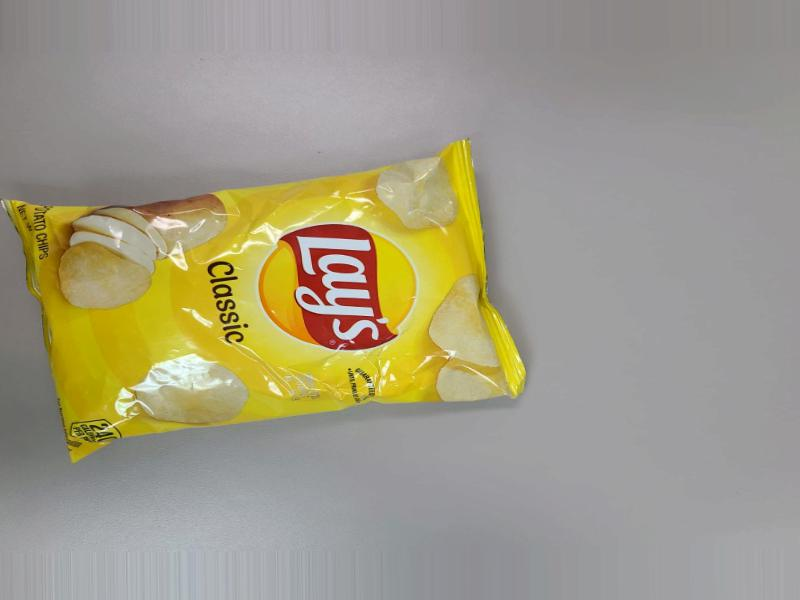lays: (54, 164, 543, 427)
